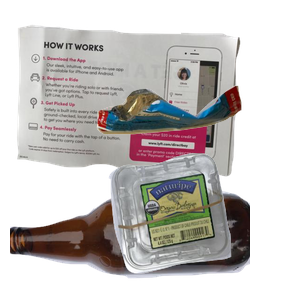glass: (10, 188, 250, 300)
paper: (14, 22, 247, 191)
plastic: (106, 151, 300, 300)
trash: (94, 83, 300, 210)
